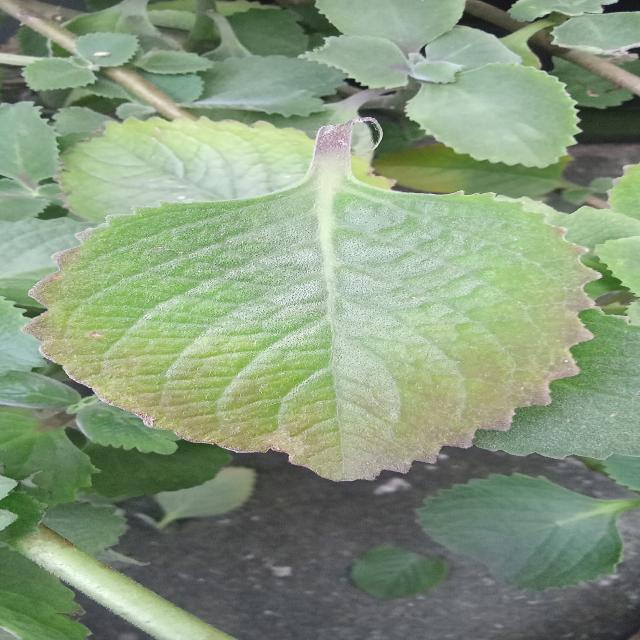Oregano: (25, 162, 626, 509)
